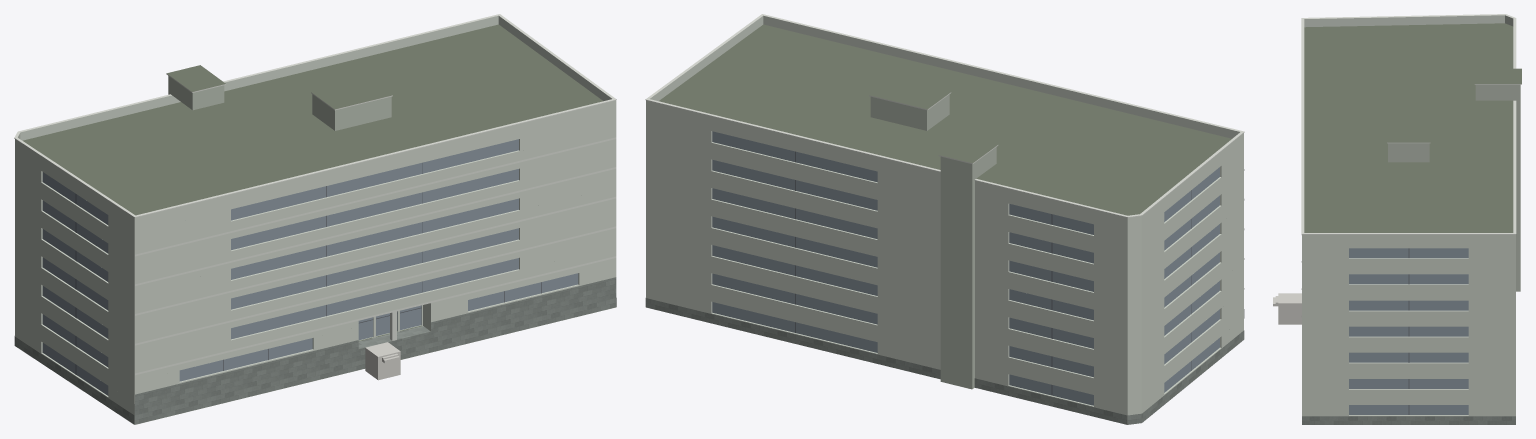
The picture shows the model from 3 angles, left to right: view 1: azimuth 30°, elevation 25°; view 2: azimuth 150°, elevation 25°; view 3: azimuth 270°, elevation 25°; orthographic projection. The views are drawn at different scales.
Parts seen in each view (by area): view 1: b500__wall, b500__roof, b500__glass, b500__base, b500__parapet, b500__trim, b500__wall2, b500__entranceStair; view 2: b500__wall, b500__roof, b500__glass, b500__parapet, b500__wall2, b500__base, b500__trim; view 3: b500__roof, b500__wall, b500__glass, b500__parapet, b500__wall2, b500__trim, b500__base, b500__entranceStair.
Part boxes in pixels (x1,y1,x2,y2): b500__wall: (15, 108, 616, 424); b500__roof: (23, 24, 615, 423); b500__glass: (42, 139, 578, 395); b500__base: (14, 277, 616, 424); b500__parapet: (15, 15, 616, 225); b500__trim: (14, 14, 616, 375); b500__wall2: (168, 76, 391, 130); b500__entranceStair: (365, 342, 400, 380); b500__wall: (646, 108, 1243, 424); b500__roof: (659, 24, 1231, 215); b500__glass: (712, 131, 1219, 405); b500__parapet: (646, 15, 1243, 225); b500__wall2: (870, 94, 996, 389); b500__base: (645, 298, 1244, 424); b500__trim: (645, 14, 1244, 289); b500__roof: (1304, 23, 1521, 232); b500__wall: (1302, 242, 1515, 416); b500__glass: (1349, 248, 1468, 414); b500__parapet: (1302, 15, 1515, 241); b500__wall2: (1388, 84, 1520, 291); b500__trim: (1301, 14, 1521, 316); b500__base: (1302, 416, 1515, 424); b500__entranceStair: (1273, 293, 1301, 324).
Size of the model in its own units: 65.07 by 29.01 by 31.07.
11 materials, 1 textured.
